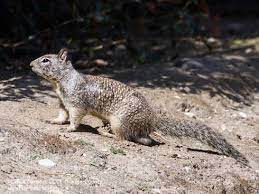squirrel: (29, 48, 249, 165)
